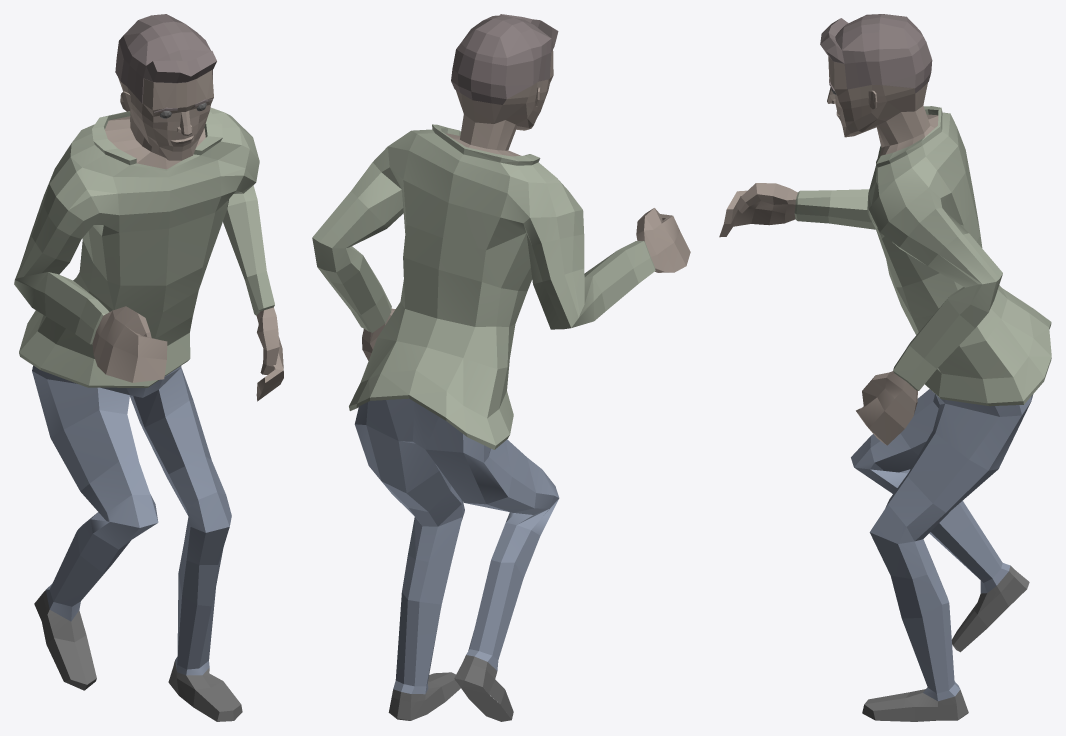
File: run_9.glb
3 views of the same model, side by side, from view 1: azimuth 30°, elevation 25°; view 2: azimuth 150°, elevation 25°; view 3: azimuth 270°, elevation 25° (orthographic). The views are drawn at different scales.
Visible parts, largest first — view 1: BaseHuman_baked; view 2: BaseHuman_baked; view 3: BaseHuman_baked.
Boxes of the visible parts, x1,y1,x2,y2 form: BaseHuman_baked: (14,14,283,721); BaseHuman_baked: (312,14,690,721); BaseHuman_baked: (719,14,1051,721).
Size of the model in its own units: 1.73 by 4.46 by 2.01.
